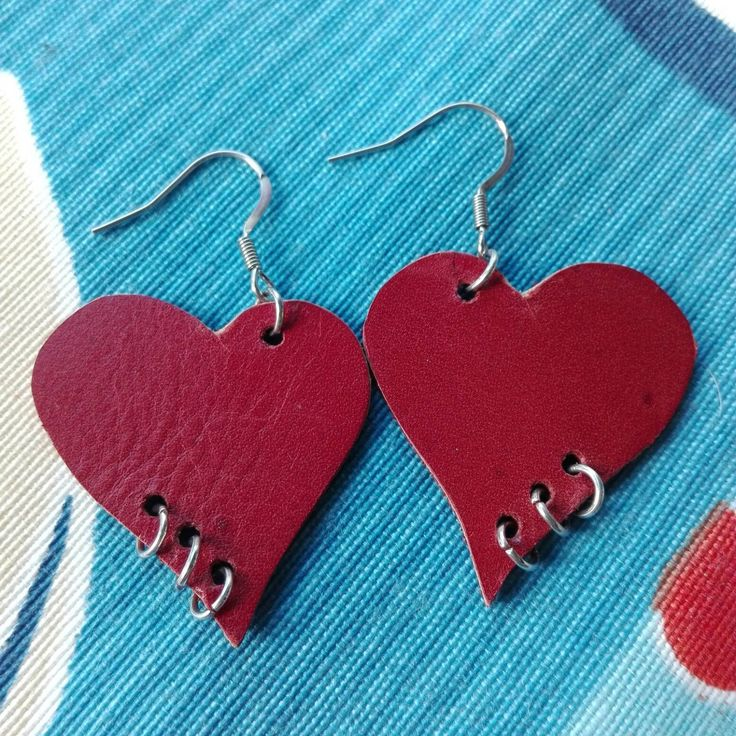cuero: (32, 252, 697, 649)
